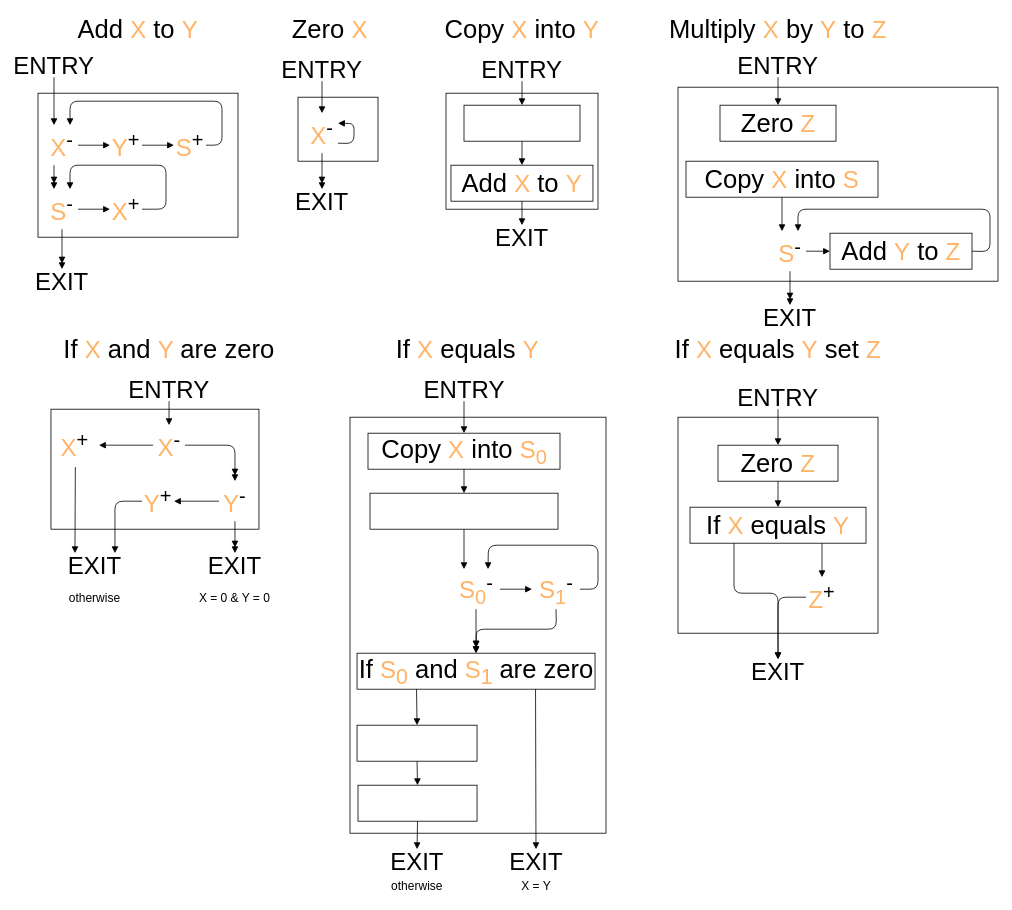
The diagram is 1012 pixels wide and 910 high, and some of its shapes have lost their labels. The centre of each missing label's shape, as x and y in pixels:
Copy Y into S 1: point (463, 510)
Zero S 0: point (416, 742)
Zero S 1: point (417, 802)
Zero Y: point (521, 122)
